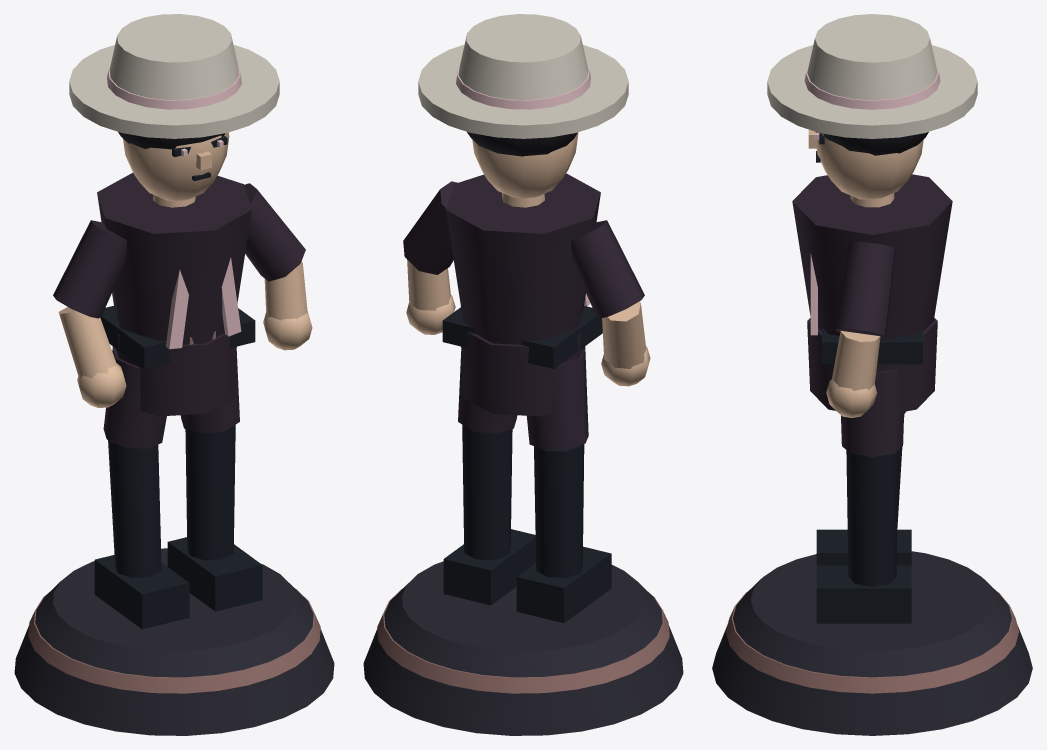
Rendered from muzan.glb.
3 renders of one model, left to right at view 1: azimuth 30°, elevation 25°; view 2: azimuth 150°, elevation 25°; view 3: azimuth 270°, elevation 25°, orthographic.
Parts seen in each view (by area): view 1: Placeholder Muzan Kibutsuji; view 2: Placeholder Muzan Kibutsuji; view 3: Placeholder Muzan Kibutsuji.
Boxes of the visible parts, x1=… form: Placeholder Muzan Kibutsuji: x1=14, y1=14, x2=334, y2=735; Placeholder Muzan Kibutsuji: x1=363, y1=14, x2=683, y2=735; Placeholder Muzan Kibutsuji: x1=712, y1=14, x2=1032, y2=735.
Bounding box in the file's own units: 0.54 × 1.17 × 0.54.
